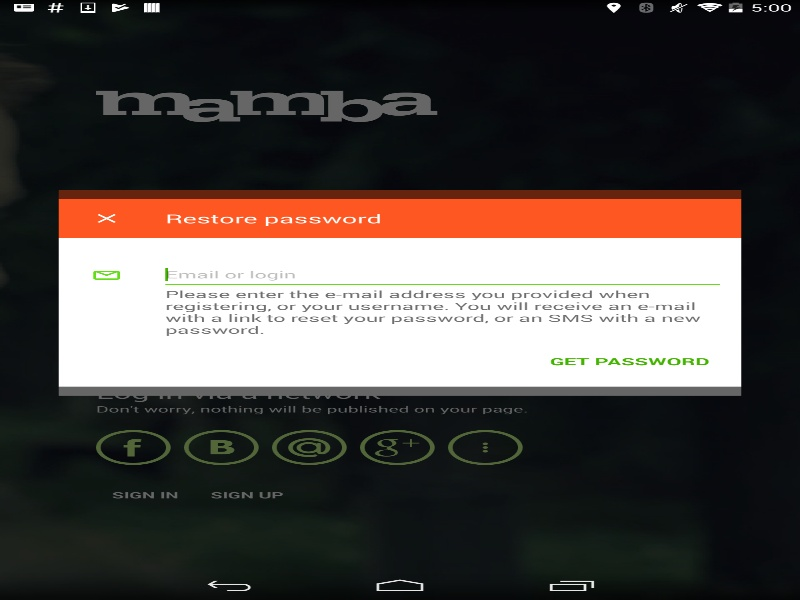Button: (534, 346, 725, 376), (69, 199, 144, 237)
Input: (165, 267, 720, 281)
